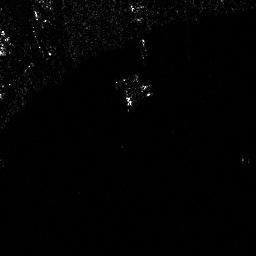ship: (114, 72, 139, 88)
